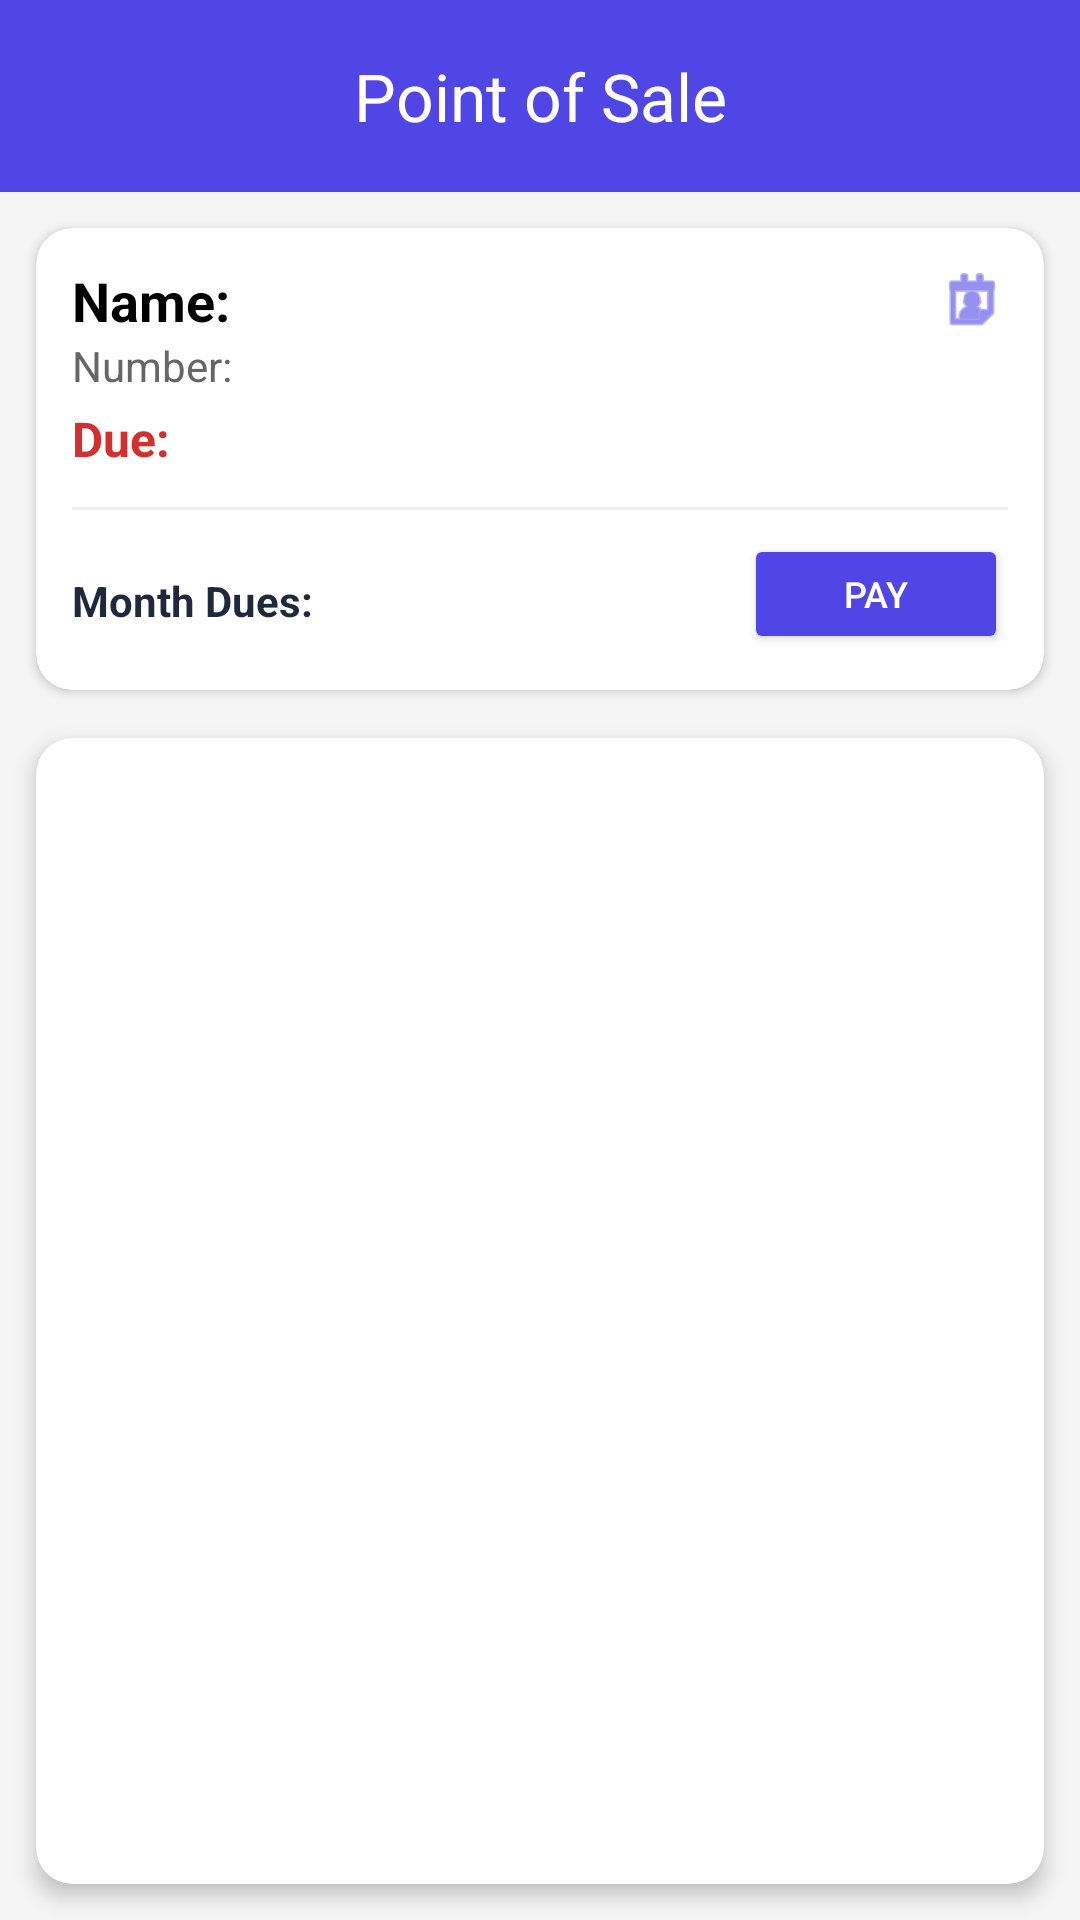

Icon click points for this 1080*1920 phone screenshot, format point (x, y):
calendar: point (972, 299)
